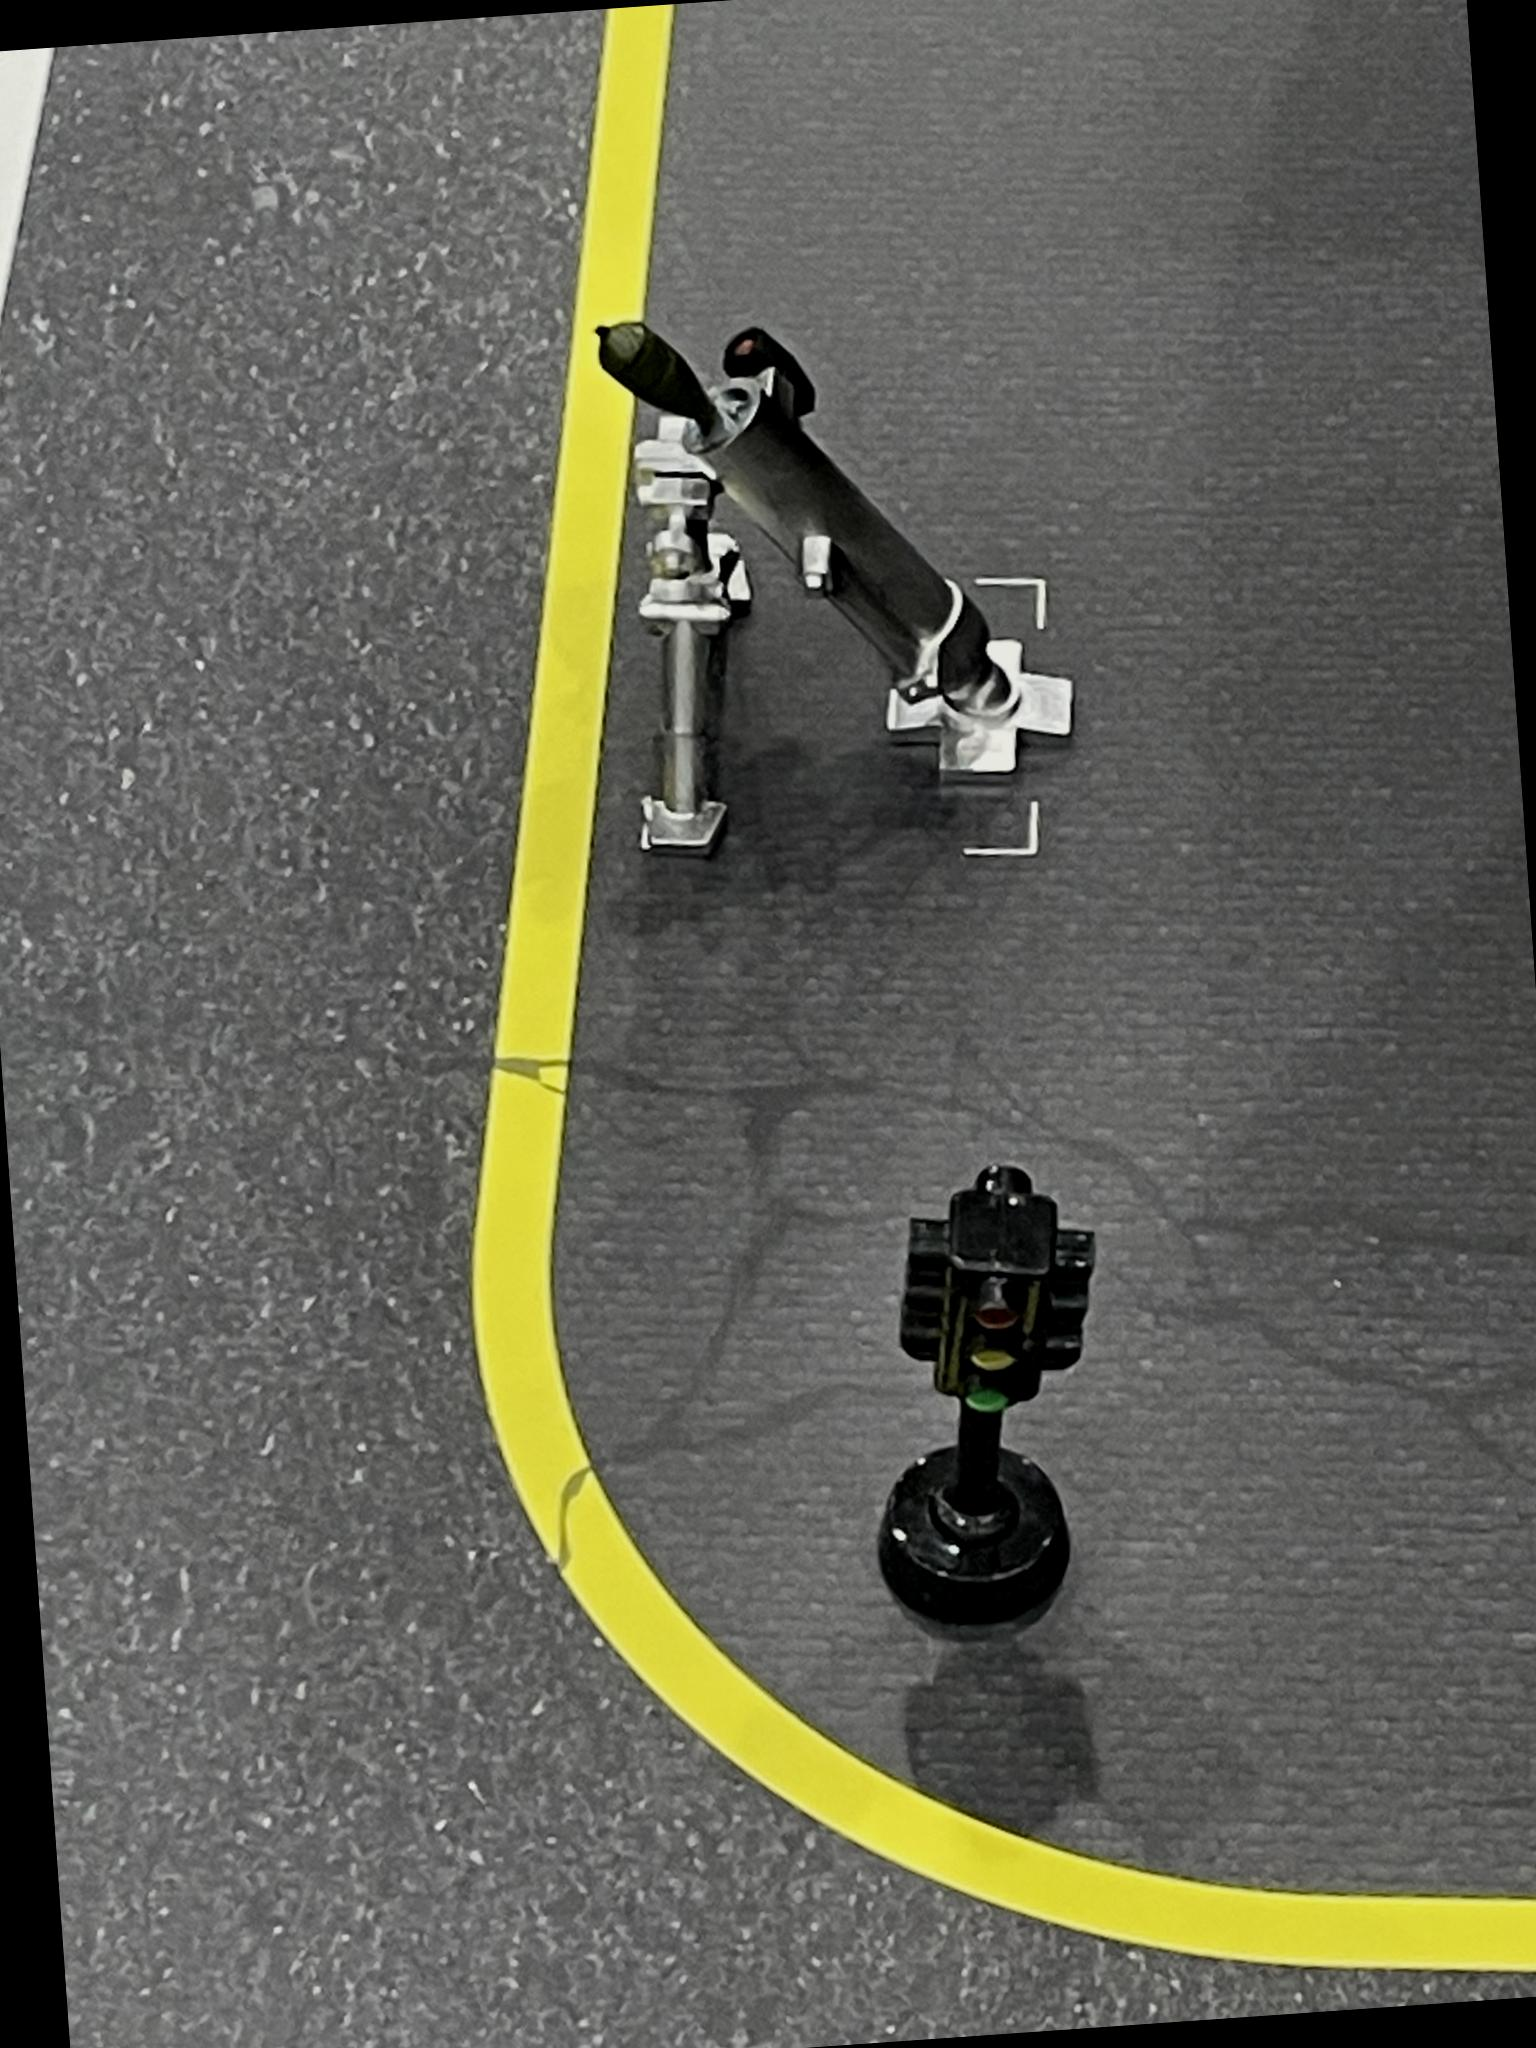Mortar: (587, 290, 1091, 889)
